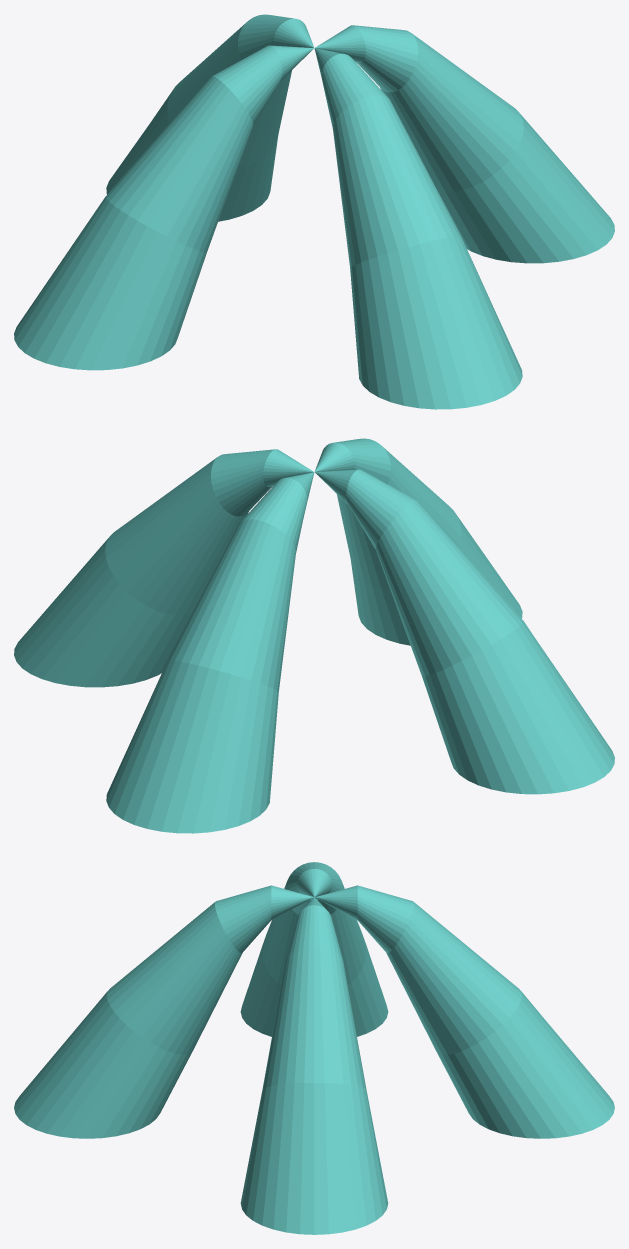
Rendered from water3.fbx.
3 views of the same model, one above another, from view 1: azimuth 30°, elevation 25°; view 2: azimuth 150°, elevation 25°; view 3: azimuth 270°, elevation 25° (orthographic). The views are drawn at different scales.
Parts seen in each view (by area): view 1: Cone; view 2: Cone; view 3: Cone.
Part boxes in pixels (left/top/right/bottom): Cone: left=14, top=14, right=614, bottom=409; Cone: left=14, top=438, right=614, bottom=833; Cone: left=14, top=862, right=614, bottom=1234.
Bounding box in the file's own units: 1375 × 558 × 1375.
